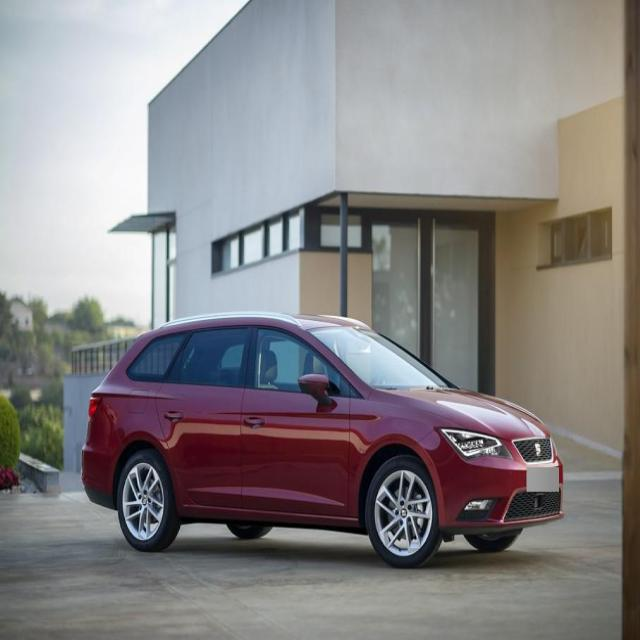back_right_side_light: (82, 388, 107, 424)
door: (158, 326, 258, 517)
front_bumper: (417, 431, 566, 532)
front_right_side_door: (236, 319, 353, 522)
front_right_side_light: (434, 422, 510, 461)
front_right_side_mirror: (296, 371, 331, 405)
rear_bumper: (78, 419, 126, 507)
wheel: (364, 453, 440, 569), (117, 451, 176, 549)
